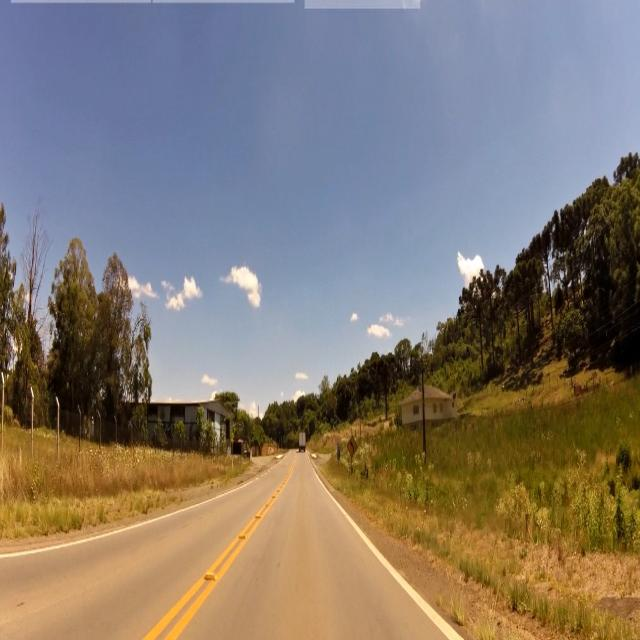A-2a: (348, 435, 357, 457)
